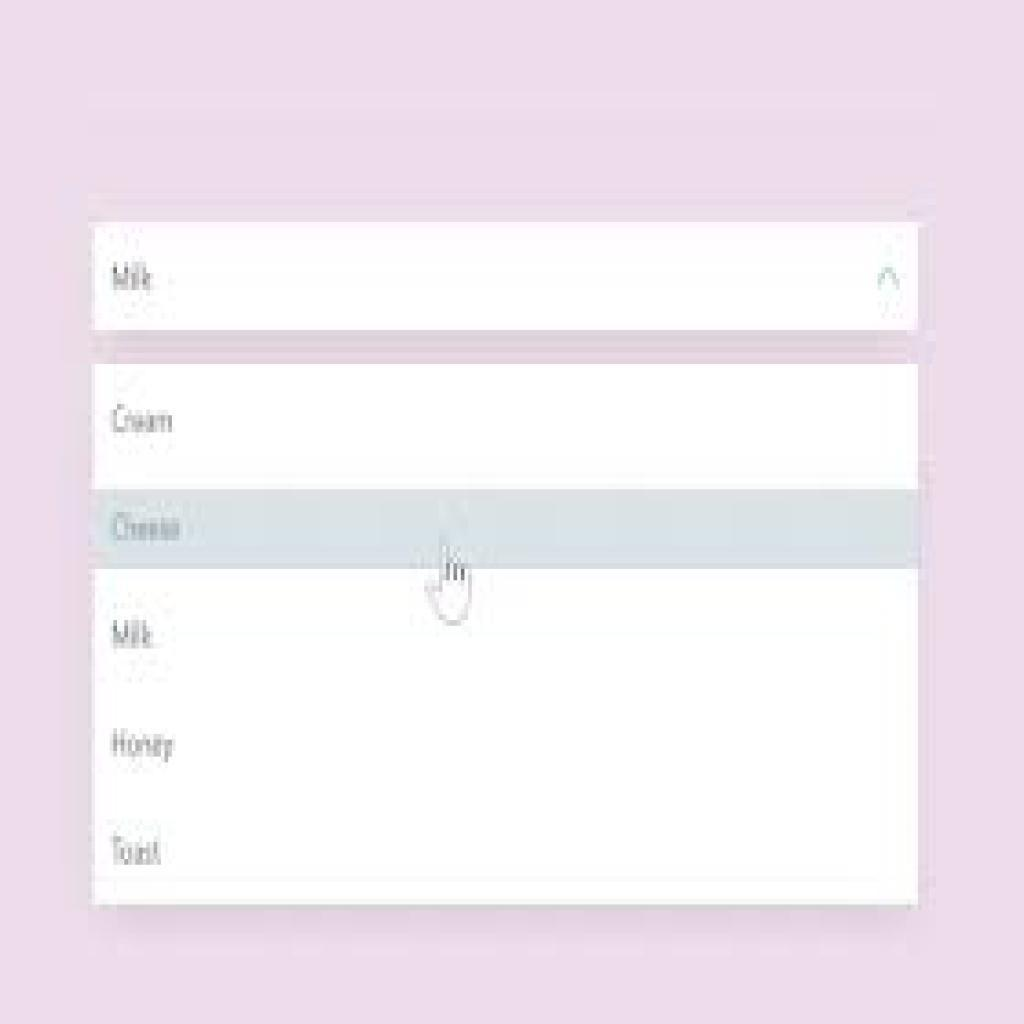dropdown: (91, 222, 921, 337)
